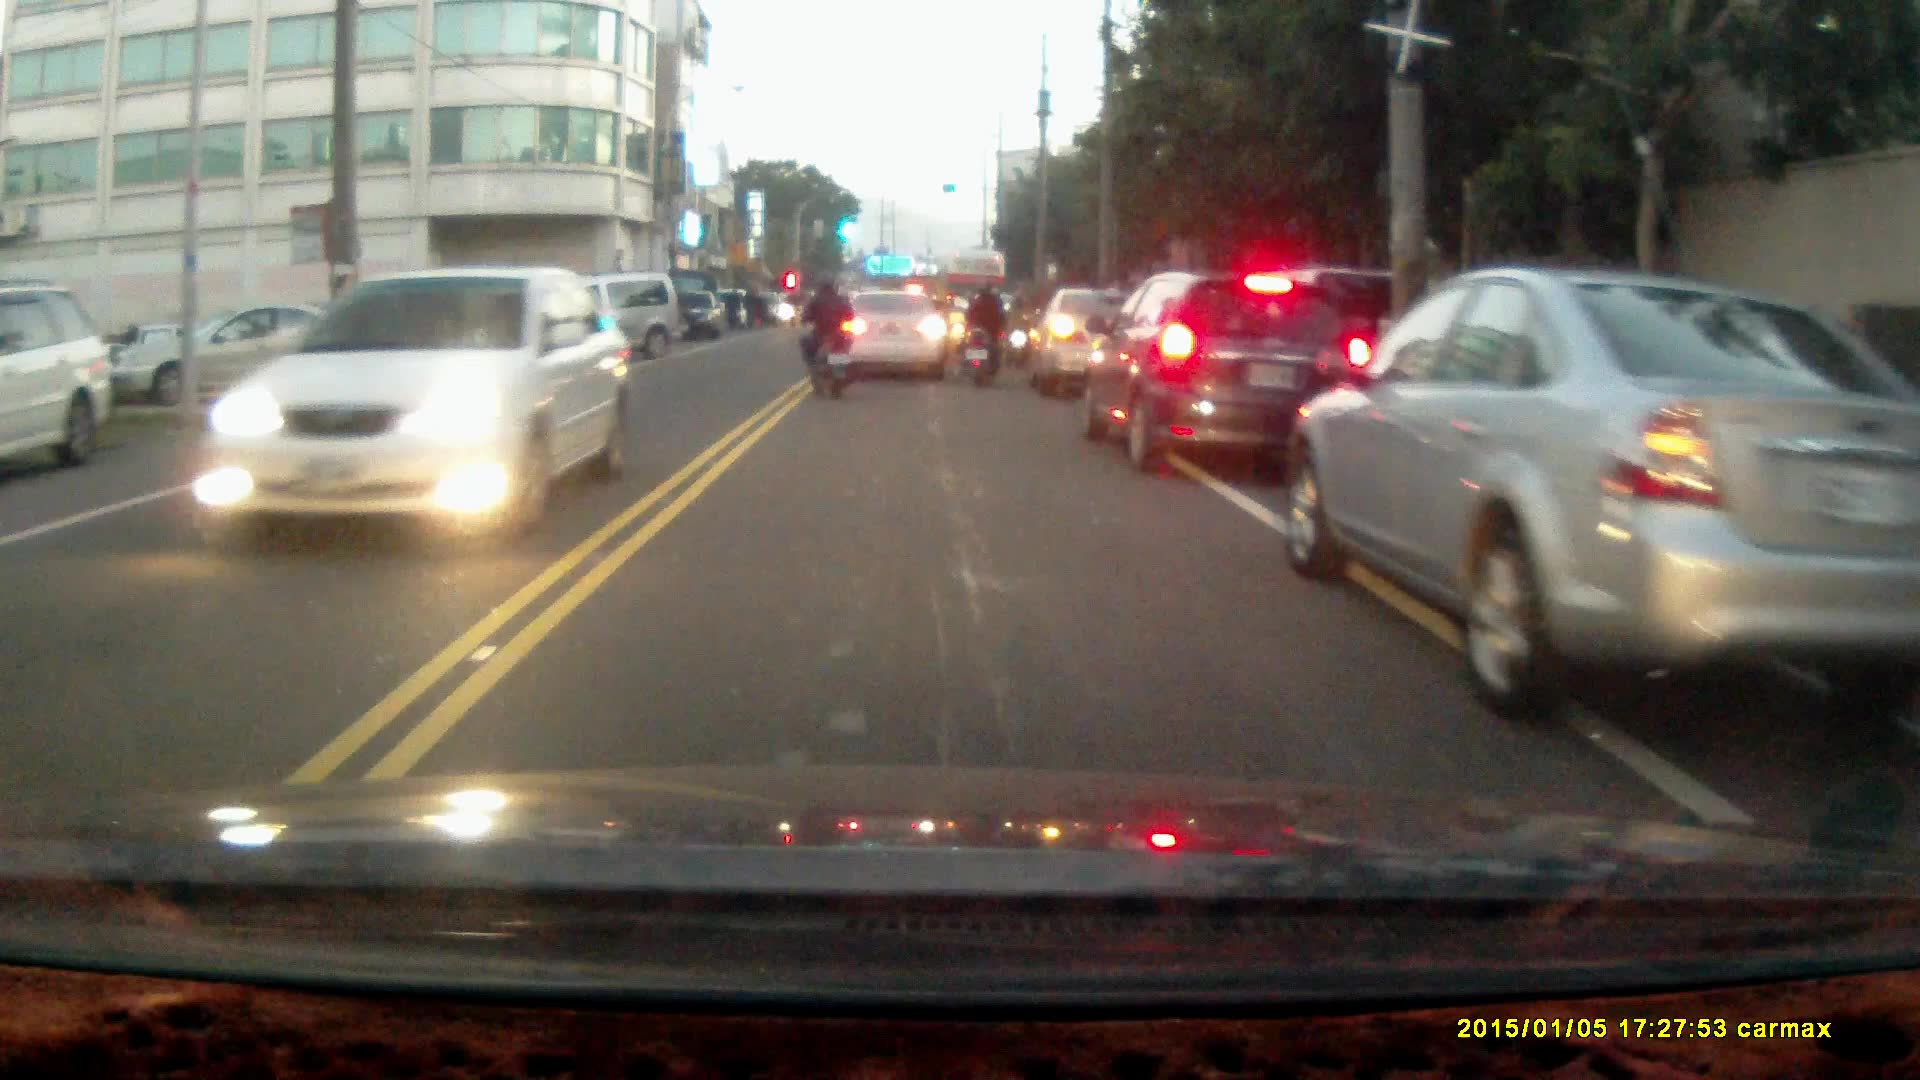rider: (795, 275, 854, 399), (958, 276, 1013, 385)
vehicle: (1298, 264, 1919, 716), (210, 267, 621, 540), (1077, 267, 1371, 474), (111, 300, 371, 406), (1, 284, 110, 476), (1021, 286, 1148, 399), (834, 288, 948, 386), (670, 291, 727, 342)
